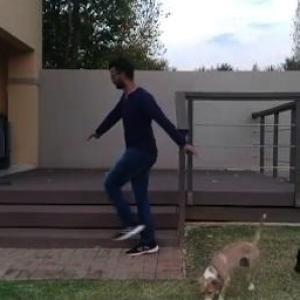land: (84, 55, 221, 254)
